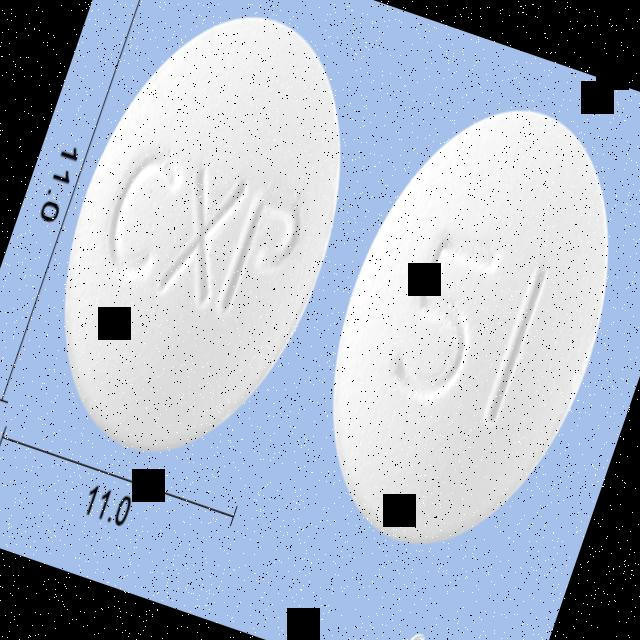Ciprotwo: (6, 0, 399, 497), (275, 67, 640, 589)
